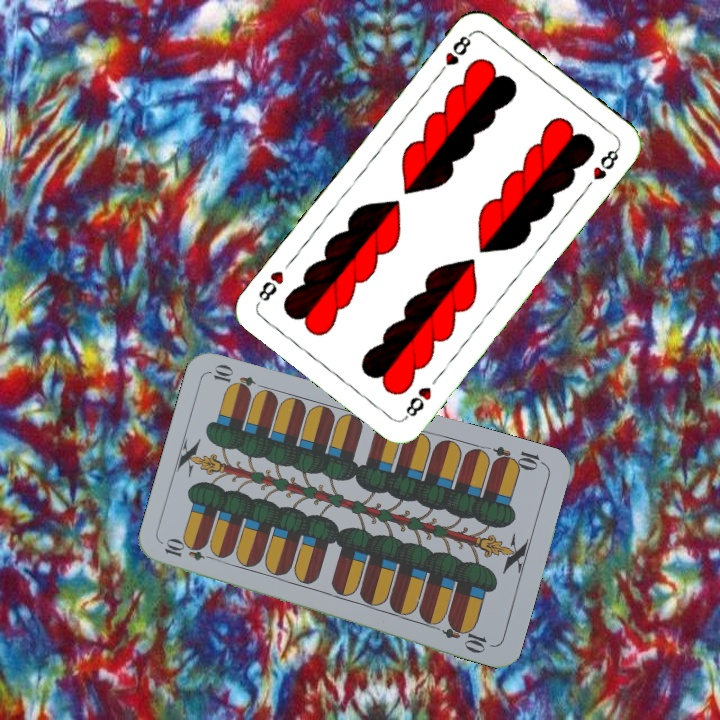E10: (489, 442, 548, 474), (160, 537, 219, 564)
H8: (433, 29, 475, 79), (400, 382, 435, 422)
